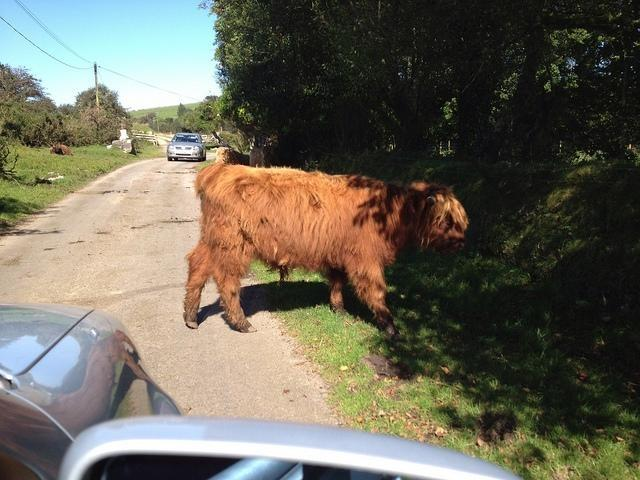car: (1, 302, 183, 474), (167, 132, 207, 162)
